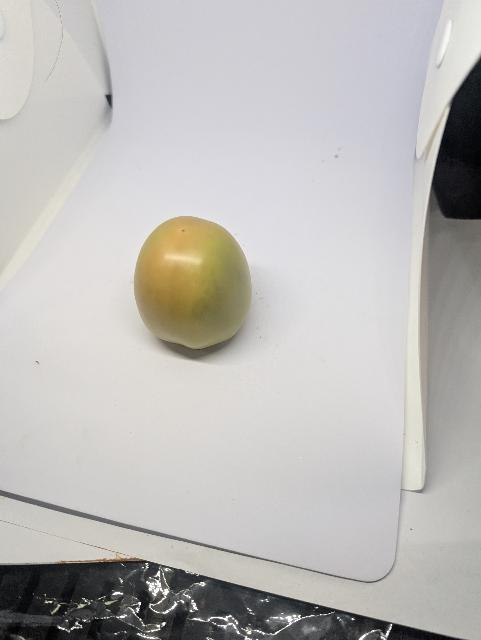breaker: (132, 216, 255, 350)
